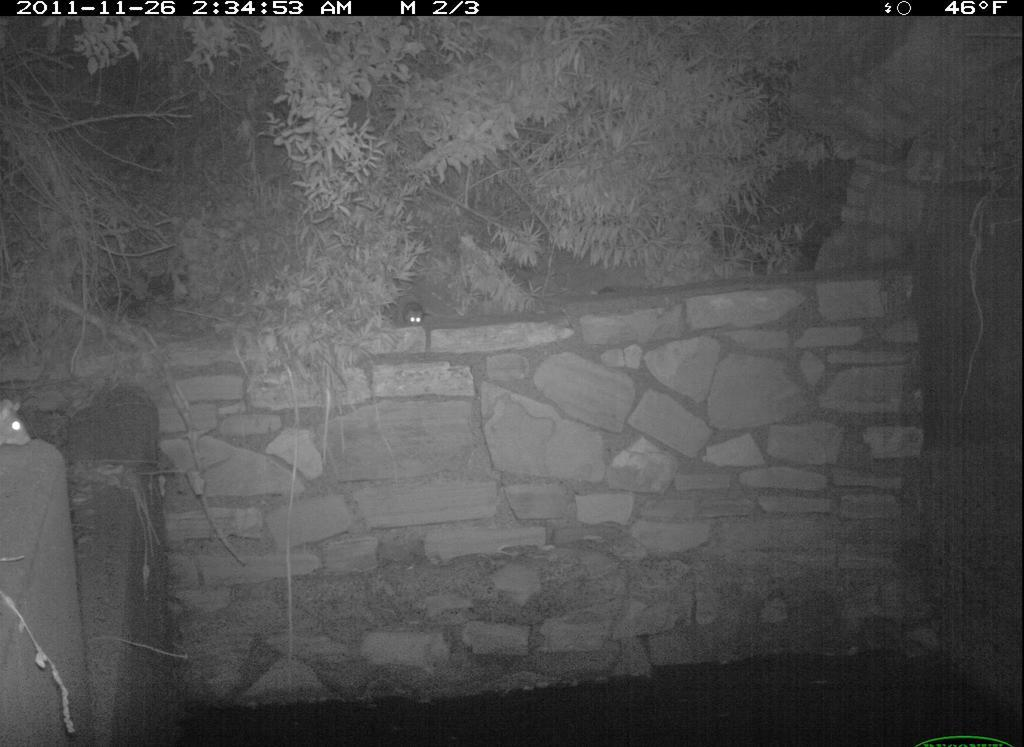rodent: (390, 292, 451, 344), (1, 396, 38, 455)
